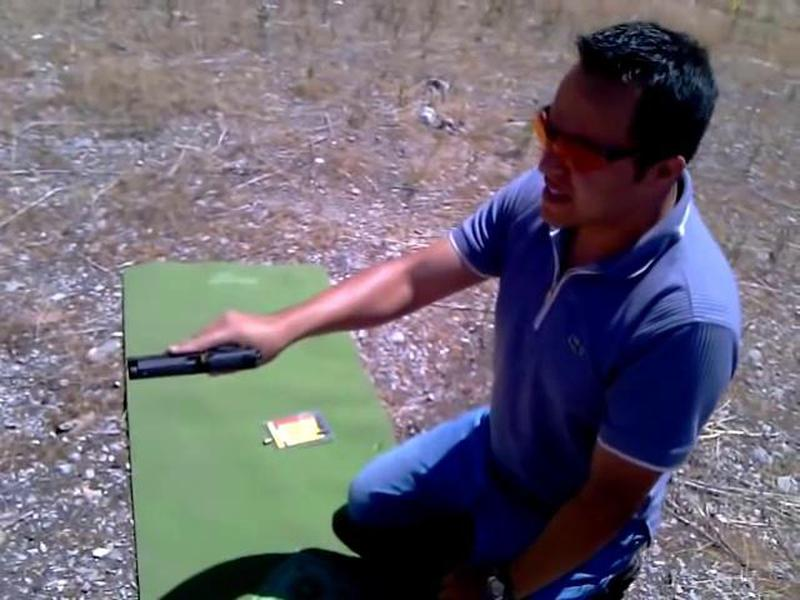Pistola: (119, 326, 267, 399)
